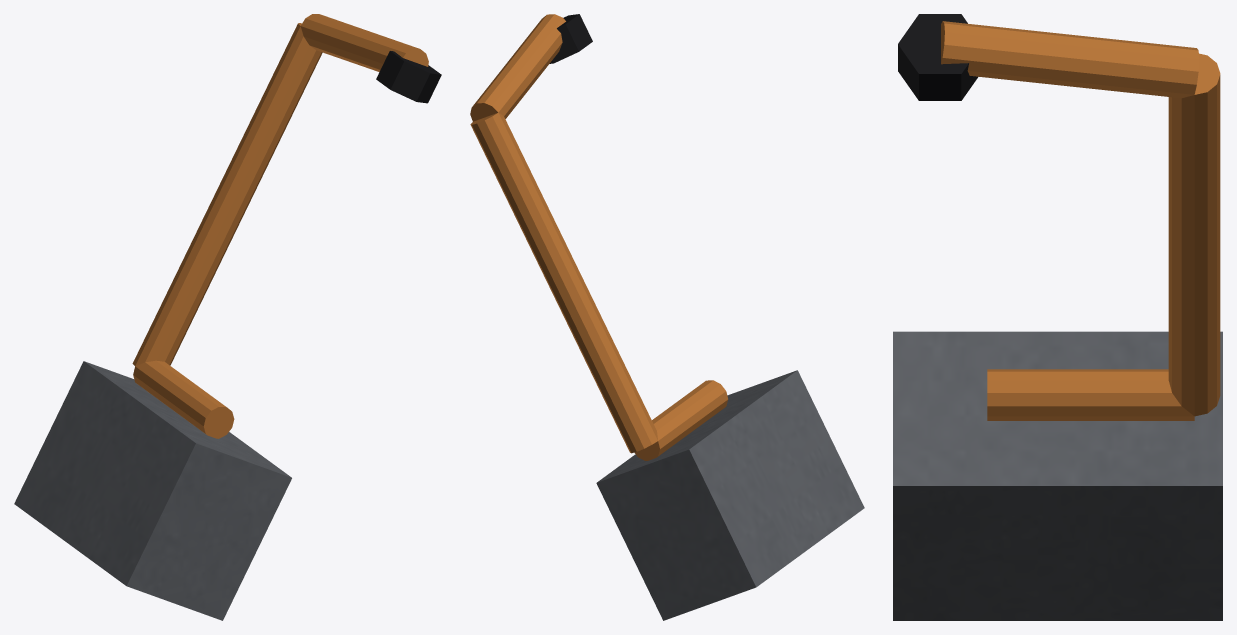
File: earthing_ok.glb
3 renders of one model, left to right at view 1: azimuth 30°, elevation 25°; view 2: azimuth 150°, elevation 25°; view 3: azimuth 270°, elevation 25°, orthographic. The views are drawn at different scales.
Visible parts, largest first — view 1: earthing_ok; view 2: earthing_ok; view 3: earthing_ok.
Boxes of the visible parts, box(x1,y1,x2,y2) form: earthing_ok: box(14, 14, 441, 620); earthing_ok: box(470, 14, 864, 620); earthing_ok: box(893, 14, 1222, 620).
Size of the model in its own units: 0.2331 by 0.3496 by 0.14.
Materials: 3 (1 with a texture image).
